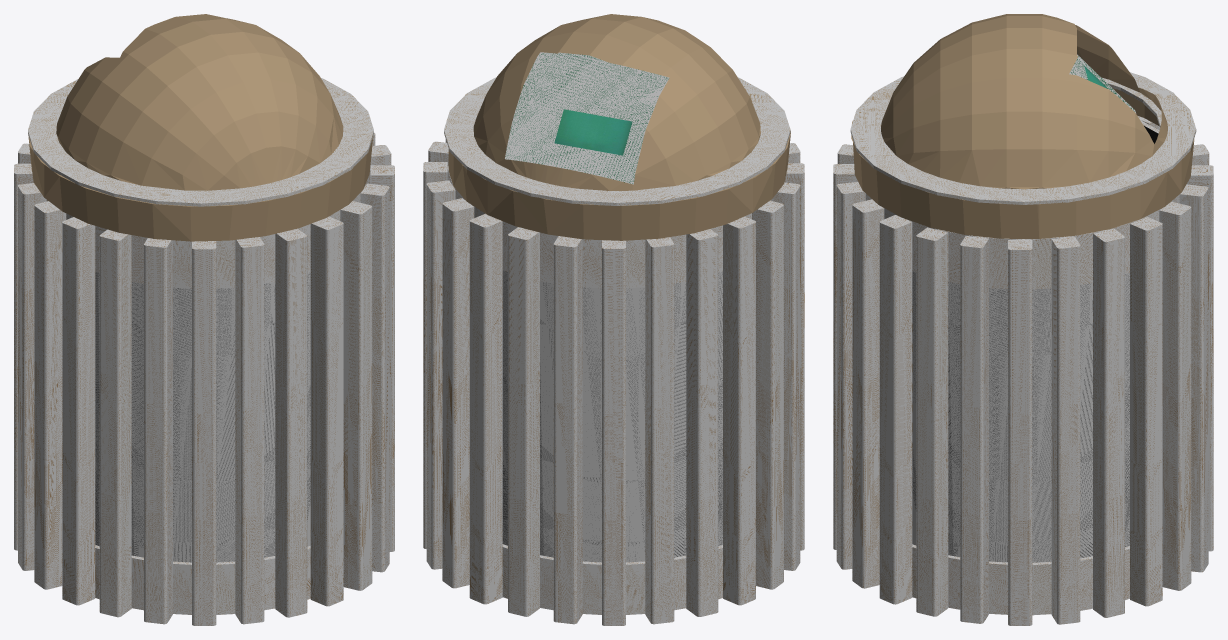
3 views of the same model, side by side, from view 1: azimuth 30°, elevation 25°; view 2: azimuth 150°, elevation 25°; view 3: azimuth 270°, elevation 25° (orthographic).
Visible parts, largest first — view 1: mesh10.004_mesh10-geometry, mesh4.003_mesh4-geometry, mesh2.017_mesh2-geometry, mesh3.022_mesh3-geometry, mesh3.016_mesh3-geometry, mesh3.014_mesh3-geometry, mesh11.004_mesh11-geometry, mesh2.023_mesh2-geometry, mesh3.015_mesh3-geometry, mesh3.020_mesh3-geometry, mesh3.024_mesh3-geometry, mesh14.004_mesh14-geometry (+7 smaller); view 2: mesh10.004_mesh10-geometry, mesh4.003_mesh4-geometry, mesh2.015_mesh2-geometry, mesh9.003_mesh9-geometry, mesh3.025_mesh3-geometry, mesh3.021_mesh3-geometry, mesh2.016_mesh2-geometry, mesh11.004_mesh11-geometry, mesh3.017_mesh3-geometry, mesh3.019_mesh3-geometry, mesh2.018_mesh2-geometry, mesh3.020_mesh3-geometry (+9 smaller); view 3: mesh10.004_mesh10-geometry, mesh4.003_mesh4-geometry, mesh2.019_mesh2-geometry, mesh2.024_mesh2-geometry, mesh2.021_mesh2-geometry, mesh2.014_mesh2-geometry, mesh11.004_mesh11-geometry, mesh2.018_mesh2-geometry, mesh2.022_mesh2-geometry, mesh2.025_mesh2-geometry, mesh2.023_mesh2-geometry, mesh14.004_mesh14-geometry (+7 smaller).
Part boxes in pixels (x1,y1,x2,y2): mesh10.004_mesh10-geometry: [56, 14, 343, 190]; mesh4.003_mesh4-geometry: [95, 272, 310, 562]; mesh2.017_mesh2-geometry: [310, 216, 343, 606]; mesh3.022_mesh3-geometry: [62, 217, 95, 605]; mesh3.016_mesh3-geometry: [275, 228, 307, 617]; mesh3.014_mesh3-geometry: [99, 229, 131, 617]; mesh11.004_mesh11-geometry: [28, 135, 372, 241]; mesh2.023_mesh2-geometry: [340, 201, 372, 590]; mesh3.015_mesh3-geometry: [235, 237, 264, 624]; mesh3.020_mesh3-geometry: [34, 201, 66, 589]; mesh3.024_mesh3-geometry: [144, 238, 172, 624]; mesh14.004_mesh14-geometry: [28, 78, 373, 206]; mesh10.004_mesh10-geometry: [473, 14, 760, 190]; mesh4.003_mesh4-geometry: [502, 270, 722, 562]; mesh2.015_mesh2-geometry: [469, 213, 502, 604]; mesh9.003_mesh9-geometry: [505, 52, 669, 184]; mesh3.025_mesh3-geometry: [723, 216, 755, 605]; mesh3.021_mesh3-geometry: [686, 229, 718, 616]; mesh2.016_mesh2-geometry: [508, 227, 539, 616]; mesh11.004_mesh11-geometry: [448, 131, 790, 240]; mesh3.017_mesh3-geometry: [553, 236, 582, 624]; mesh3.019_mesh3-geometry: [645, 237, 674, 624]; mesh2.018_mesh2-geometry: [442, 198, 474, 588]; mesh3.020_mesh3-geometry: [752, 200, 783, 589]; mesh10.004_mesh10-geometry: [881, 14, 1167, 189]; mesh4.003_mesh4-geometry: [912, 271, 1129, 562]; mesh2.019_mesh2-geometry: [879, 215, 912, 604]; mesh2.024_mesh2-geometry: [1130, 217, 1162, 606]; mesh2.021_mesh2-geometry: [916, 227, 948, 616]; mesh2.014_mesh2-geometry: [1093, 228, 1124, 617]; mesh11.004_mesh11-geometry: [851, 88, 1194, 238]; mesh2.018_mesh2-geometry: [1159, 201, 1191, 590]; mesh2.022_mesh2-geometry: [1051, 236, 1080, 624]; mesh2.025_mesh2-geometry: [960, 236, 988, 623]; mesh2.023_mesh2-geometry: [852, 199, 884, 588]; mesh14.004_mesh14-geometry: [850, 72, 1196, 204].
Bounding box in the file's own units: 0.4852 × 0.7274 × 0.4852.
